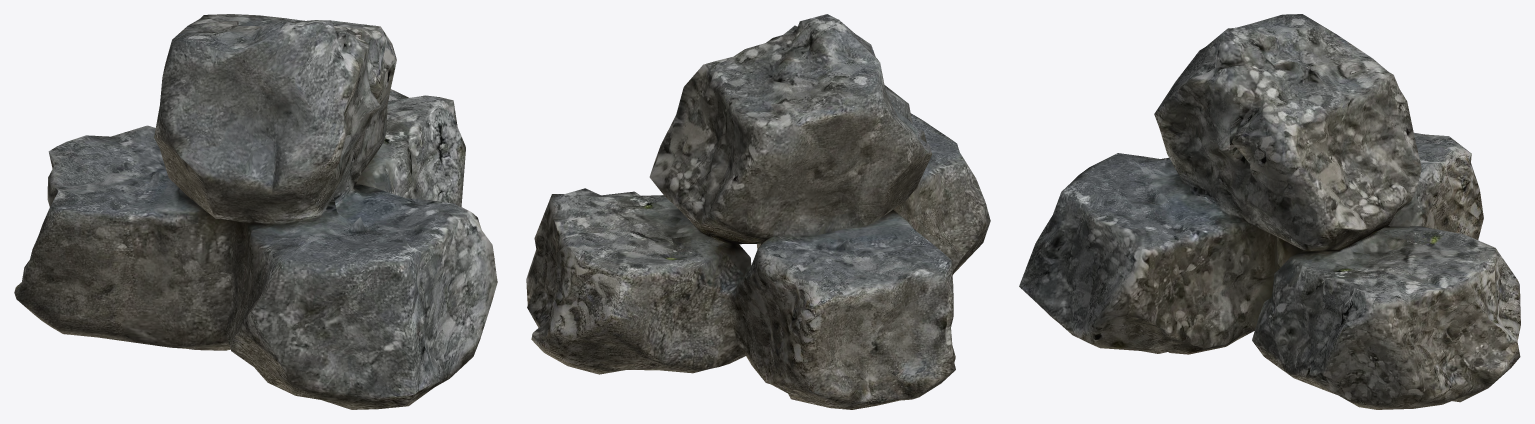
The model's file is stone.a979a0b671.glb.
3 renders of one model, left to right at view 1: azimuth 30°, elevation 25°; view 2: azimuth 150°, elevation 25°; view 3: azimuth 270°, elevation 25°, orthographic. The views are drawn at different scales.
Parts seen in each view (by area): view 1: stone; view 2: stone; view 3: stone.
Boxes of the visible parts, x1,y1,x2,y2 form: stone: [14, 14, 497, 409]; stone: [526, 14, 990, 409]; stone: [1019, 14, 1520, 409].
Size of the model in its own units: 0.3276 by 0.2257 by 0.35.
1 material, 1 textured.
